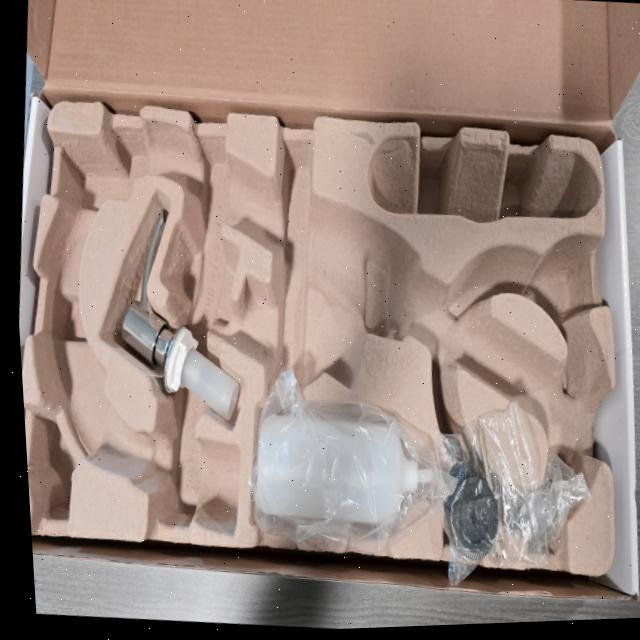1m: (30, 127, 606, 532)
2: (114, 208, 240, 423)
3: (252, 415, 443, 523)
4m: (365, 138, 599, 221)
5m: (529, 237, 585, 317)
6o: (503, 446, 590, 558)
7: (434, 400, 550, 581)
